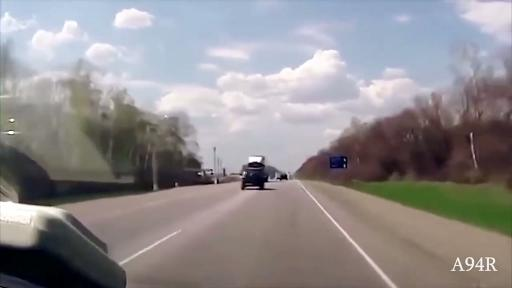Accident-fire-smoke: (0, 44, 220, 191)
CAR: (233, 129, 296, 205)
